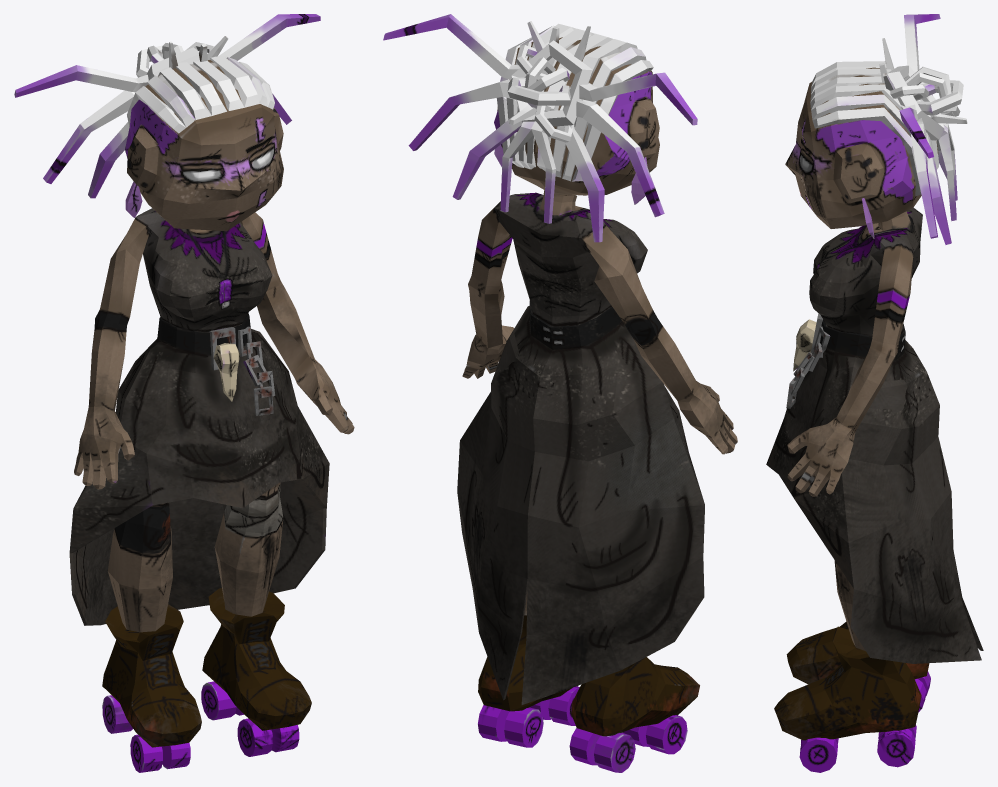
The model's file is bruja_000168.obj.
3 renders of one model, left to right at view 1: azimuth 30°, elevation 25°; view 2: azimuth 150°, elevation 25°; view 3: azimuth 270°, elevation 25°, orthographic. The views are drawn at different scales.
Parts seen in each view (by area): view 1: Bruja_Plane.001; view 2: Bruja_Plane.001; view 3: Bruja_Plane.001.
Part boxes in pixels (x1,y1,x2,y2): Bruja_Plane.001: [14, 14, 354, 772]; Bruja_Plane.001: [383, 14, 737, 772]; Bruja_Plane.001: [766, 14, 983, 772].
Bounding box in the file's own units: 7.47 × 16.61 × 4.73.
